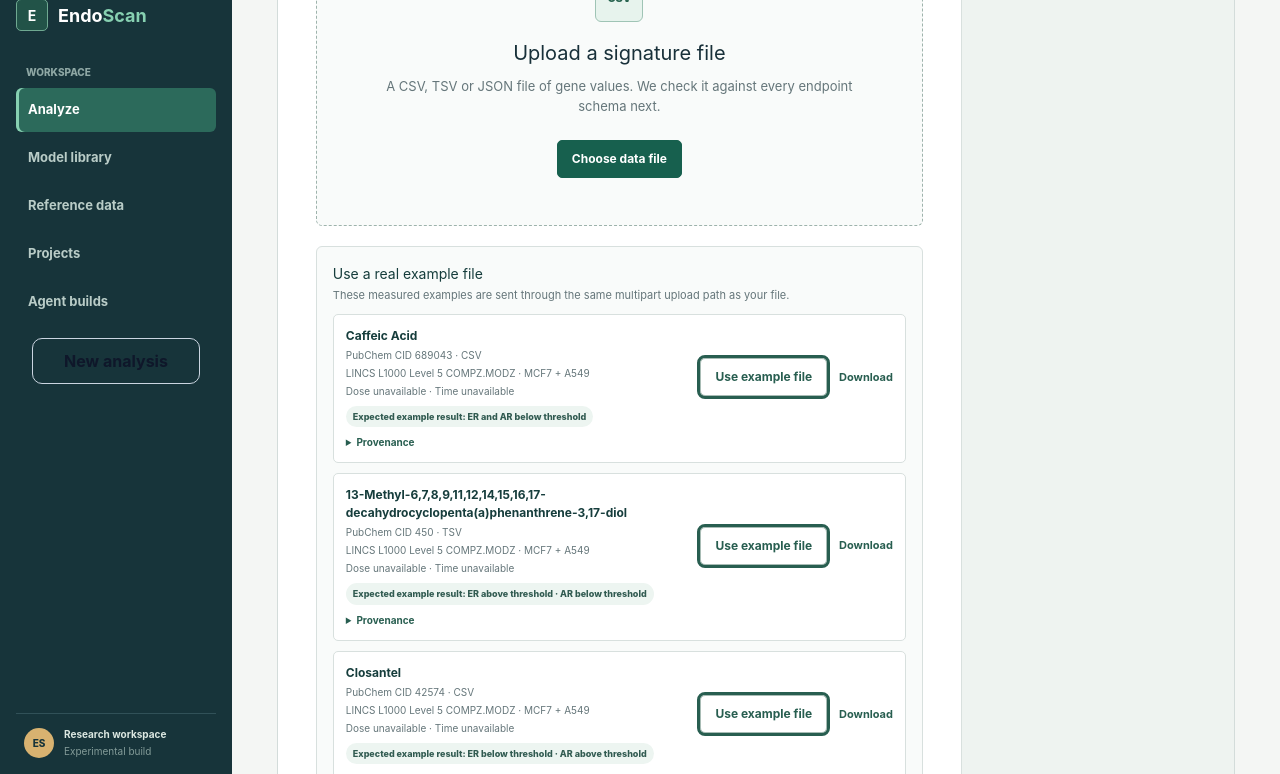
Analyze stepped flow + result overview › a bundled REAL demo signature completes the whole Analyze flow (no JSON copying)
(page scrolled)
Expected: the text "Caffeic Acid" is shown, [346, 328, 417, 343]
Click the button "Use example file" in the row of "689043": (764, 377) [700, 358, 827, 396]
(page scrolled)
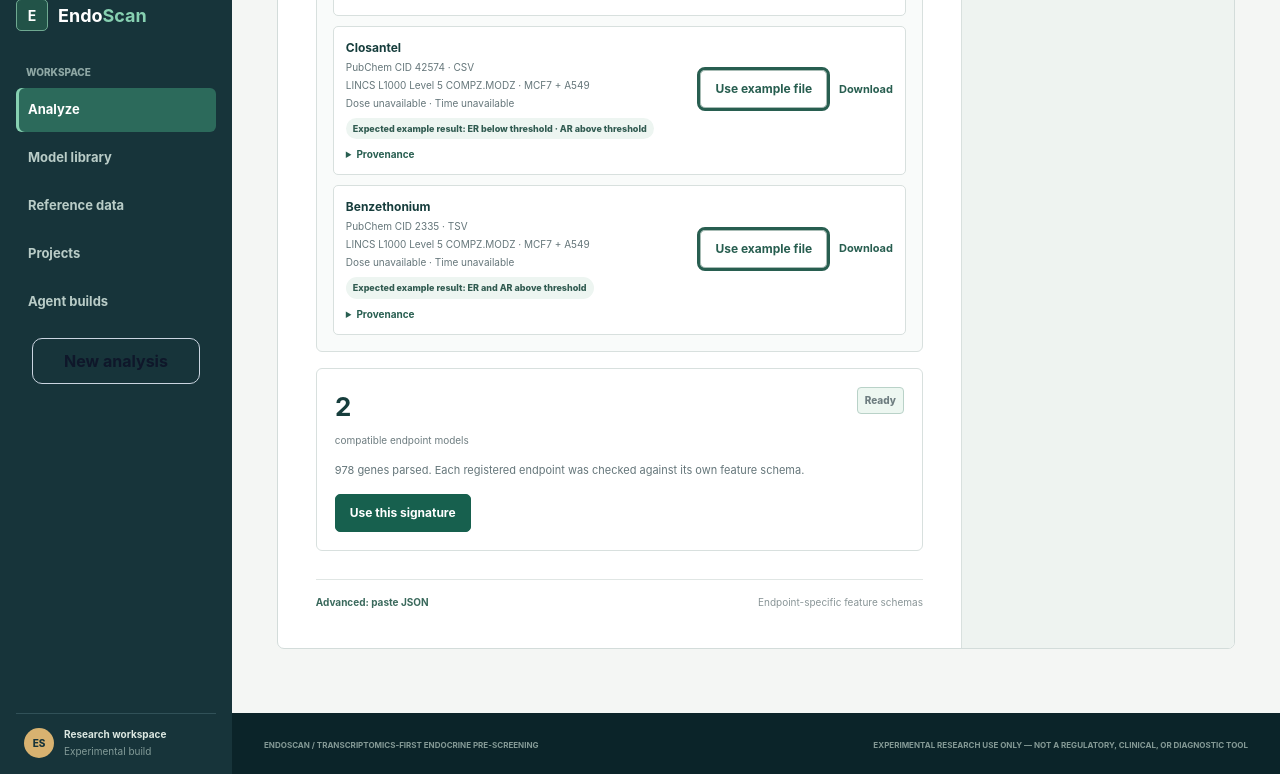
Click the button "Use this signature": (403, 513) [335, 494, 471, 532]
(page scrolled)
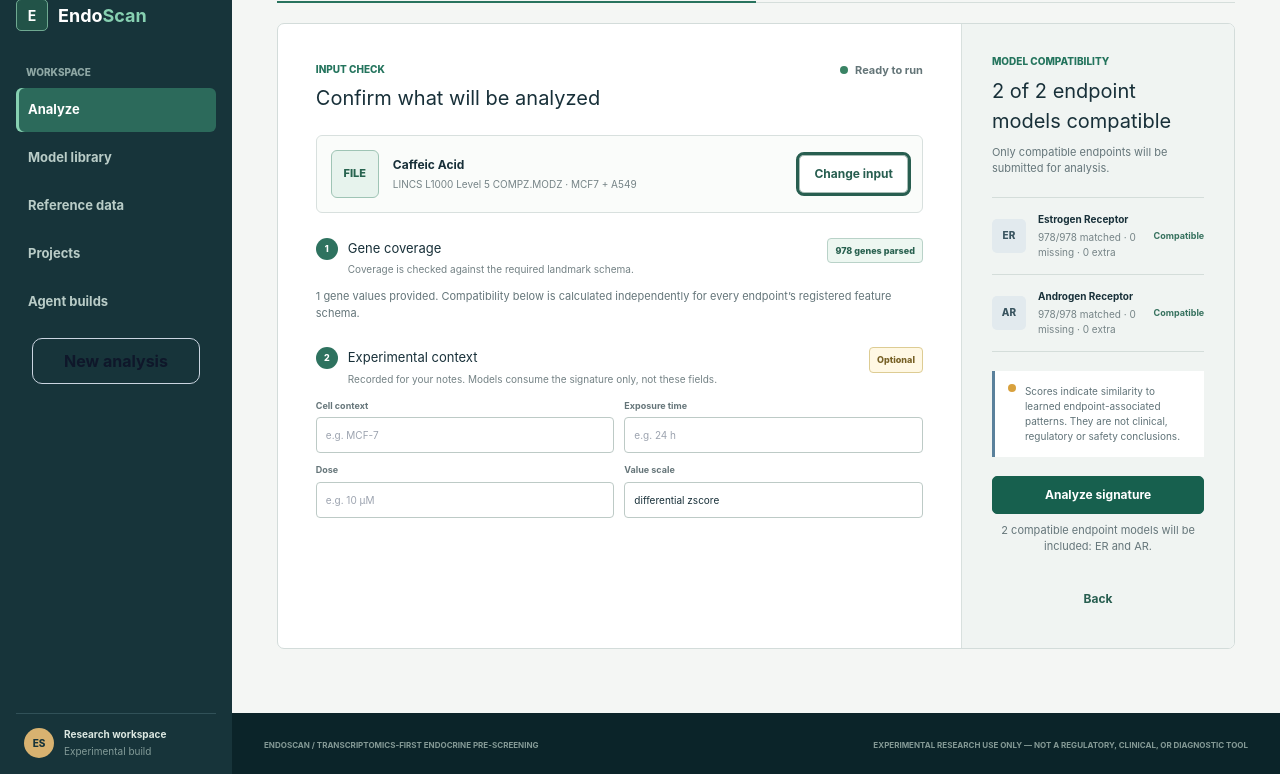
Now the button "Analyze signature" is enabled
Straight into validate → run → results, no raw JSON required.
Click the button "Analyze signature": (1098, 494) [992, 476, 1204, 514]
(page scrolled)
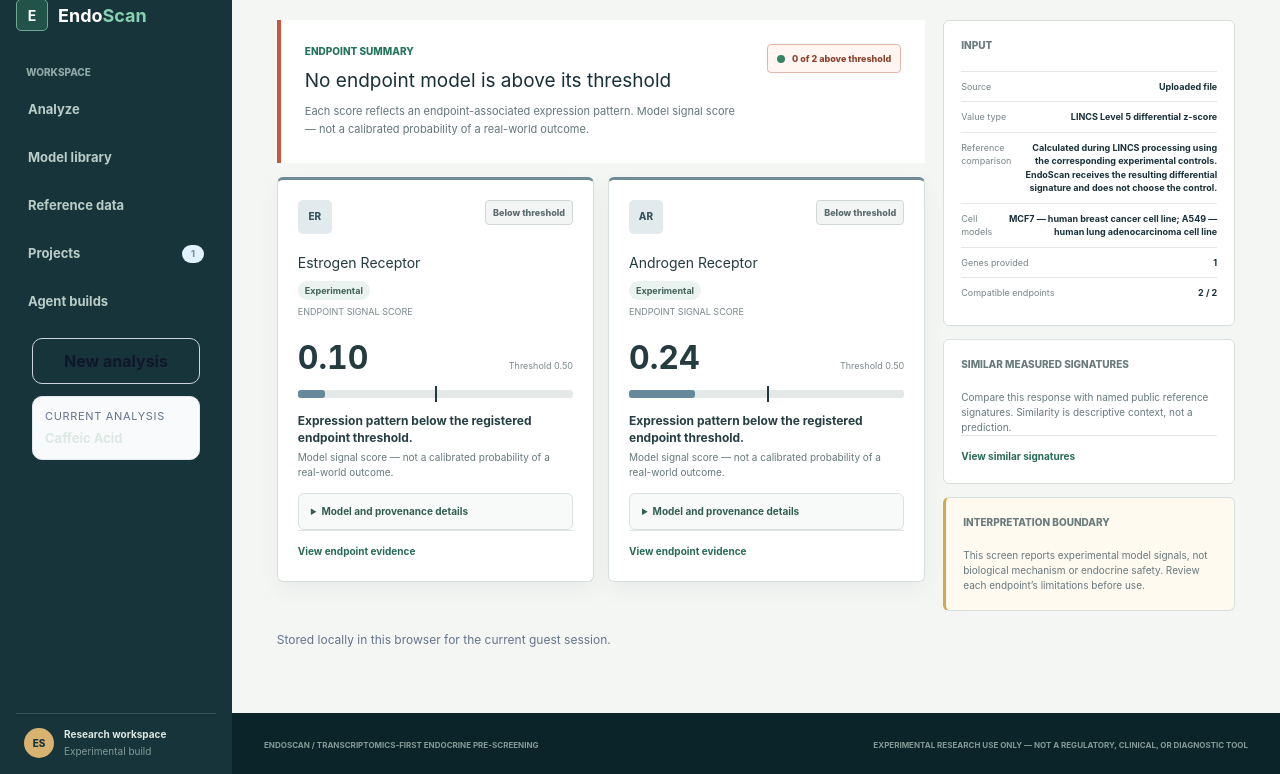
Now the number of elements with class "endpoint-result" is 2, box [277, 177, 594, 582]; [608, 177, 925, 582]
